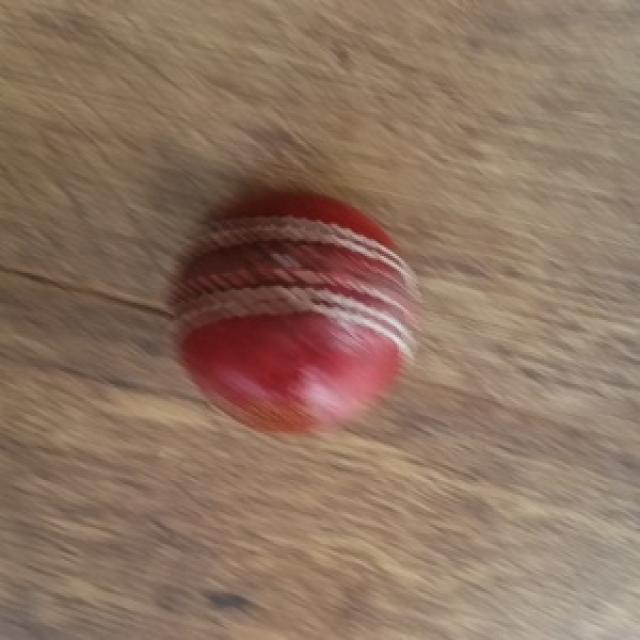ball: (162, 154, 422, 442)
